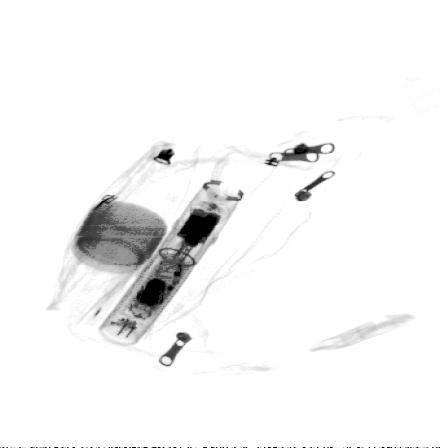Baton: (98, 178, 247, 346)
